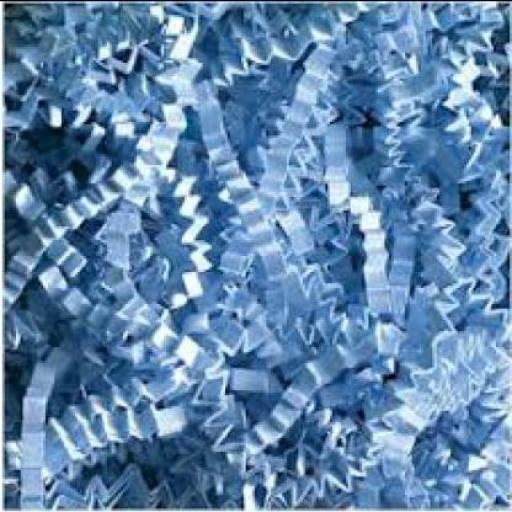paper: (2, 1, 511, 510)
